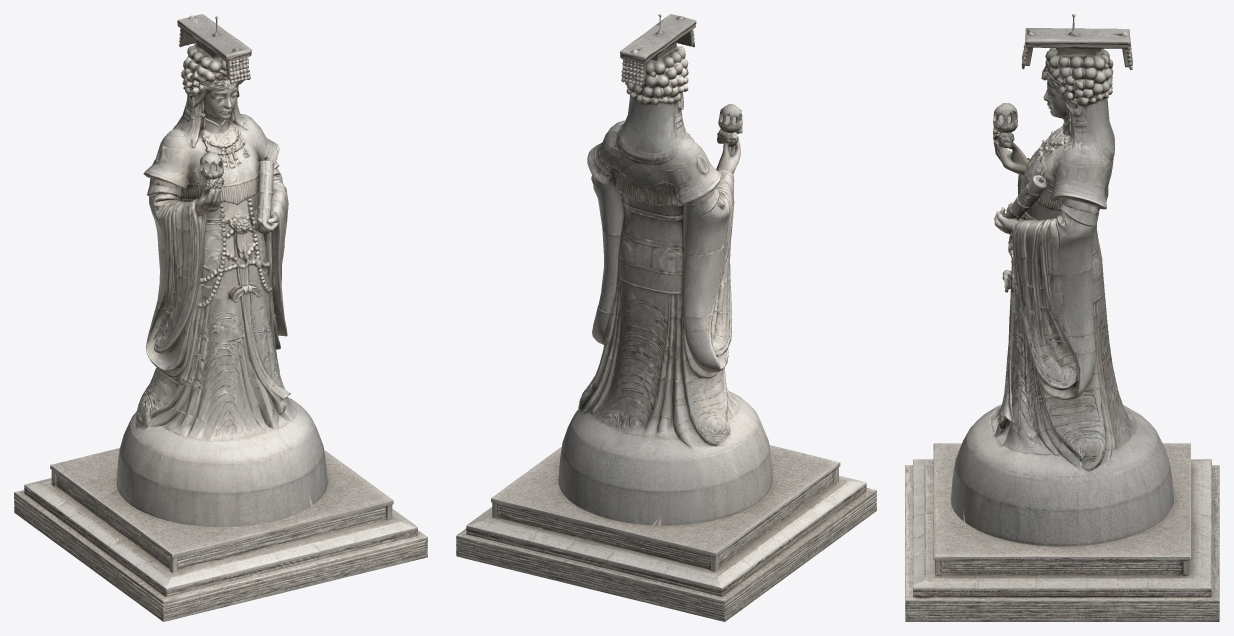
File: statue-lite.glb
The picture shows the model from 3 angles, left to right: view 1: azimuth 30°, elevation 25°; view 2: azimuth 150°, elevation 25°; view 3: azimuth 270°, elevation 25°; orthographic projection. The views are drawn at different scales.
Size of the model in its own units: 0.5267 by 0.9796 by 0.5155.
1 material, 1 textured.
